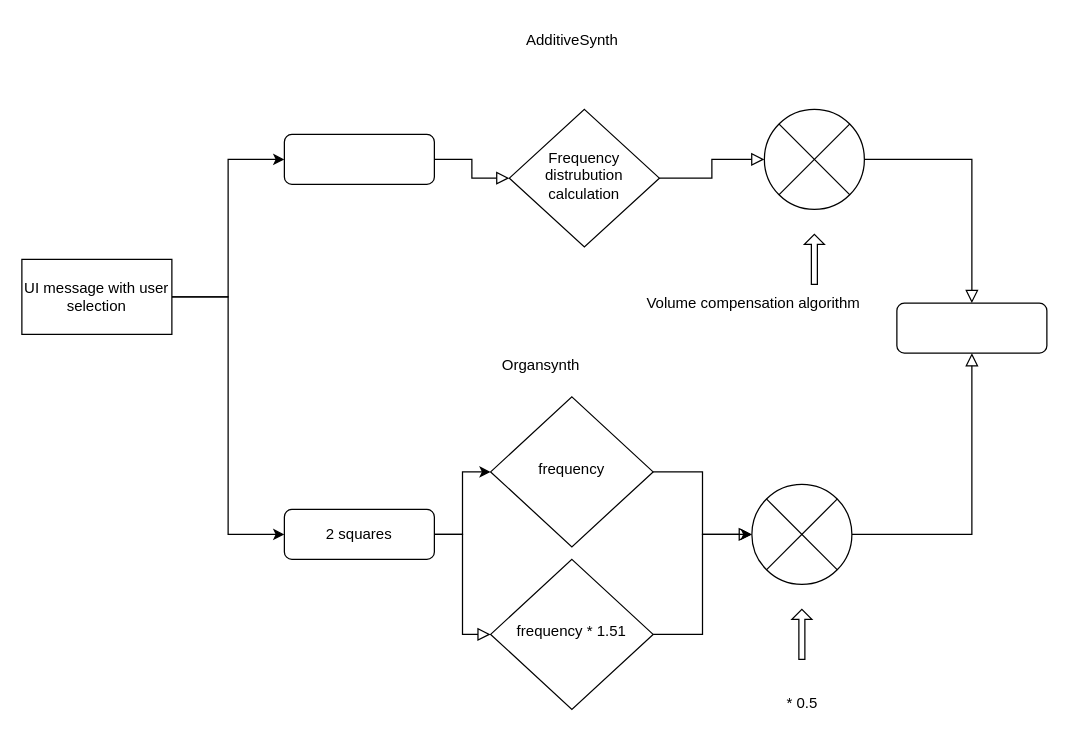
Image size: 1069x743. Some labels were removed from this diagram. The box of each missing label's shape, as (x1, y1, x2, y2) in pixels:
100 sines: (283, 133, 434, 184)
Output: (896, 302, 1047, 353)
